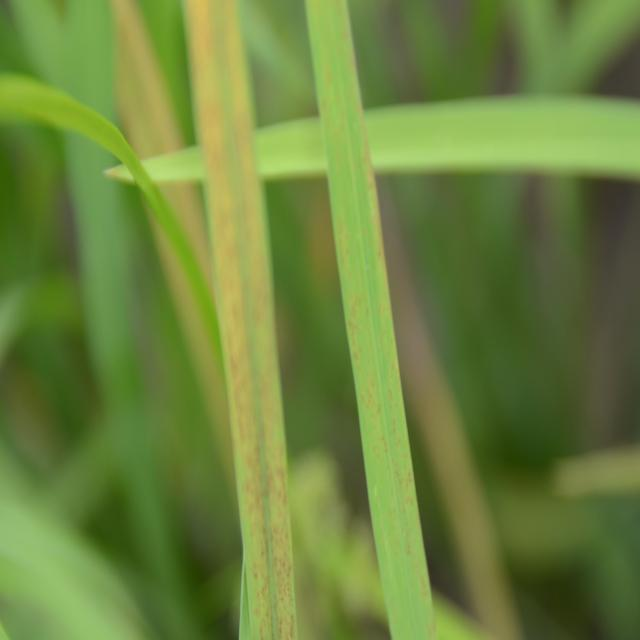Rice Tungro: (220, 285, 304, 624)
